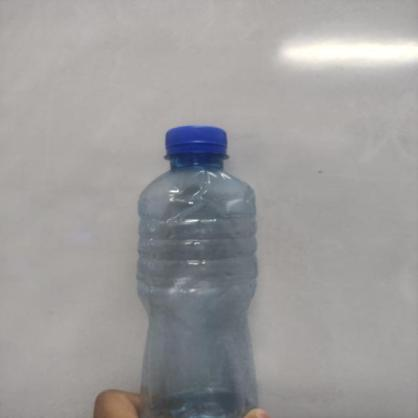bottle: (130, 124, 264, 389)
cap: (159, 126, 230, 164)
